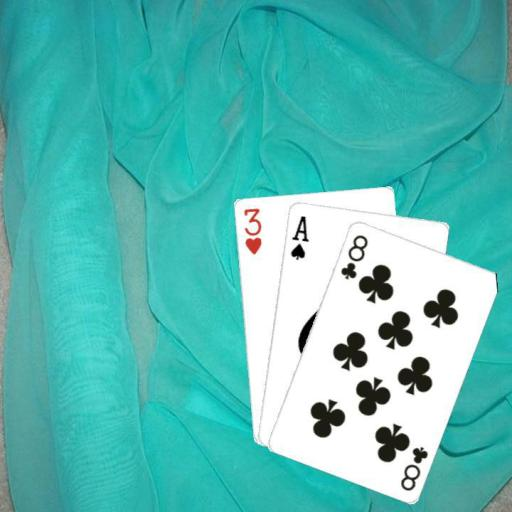3H: (241, 205, 263, 256)
8C: (337, 231, 370, 281), (397, 442, 429, 492)
AS: (287, 212, 310, 261)
